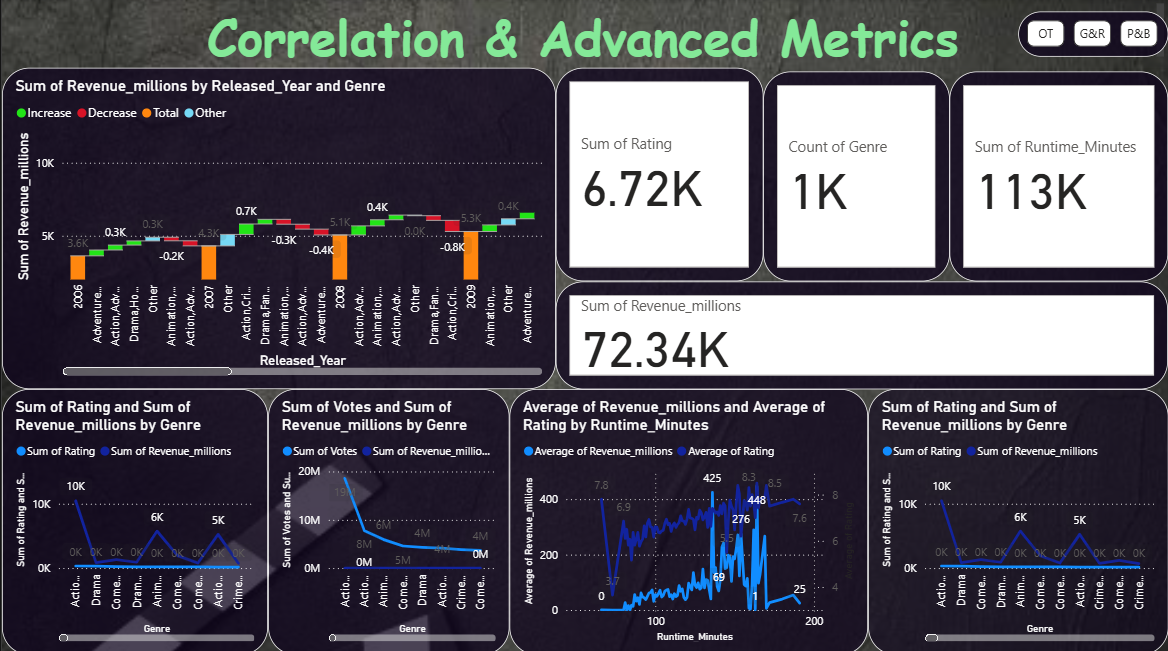

What the dashboard file says about the page in this screenshot:
{"tool":"powerbi","page":{"name":"C&M","canvas":[1280,720],"ordinal":3},"visuals":[{"type":"lineChart","fields":{"Y":["Sum(IMDB-Movie-Data.Rating)","Sum(IMDB-Movie-Data.Revenue_millions)"],"Category":["IMDB-Movie-Data.Genre"]},"box":[0,428.1,292.3,292.3],"z":0},{"type":"textbox","box":[2.7,0,1277.5,75.5],"z":1000},{"type":"lineChart","fields":{"Category":["IMDB-Movie-Data.Runtime_Minutes"],"Y":["Avg(IMDB-Movie-Data.Revenue_millions)"],"Y2":["Avg(IMDB-Movie-Data.Rating)"]},"box":[557.1,428.1,393.8,292.3],"z":2000},{"type":"lineChart","fields":{"Y":["Sum(IMDB-Movie-Data.Votes)","Sum(IMDB-Movie-Data.Revenue_millions)"],"Category":["IMDB-Movie-Data.Genre"]},"box":[292.3,428.1,264.8,292.3],"z":3000},{"type":"lineChart","fields":{"Category":["IMDB-Movie-Data.Genre"],"Y":["Sum(IMDB-Movie-Data.Rating)","Sum(IMDB-Movie-Data.Revenue_millions)"]},"box":[950.9,428.1,329.3,292.3],"z":4000},{"type":"waterfallChart","fields":{"Category":["IMDB-Movie-Data.Released_Year"],"Y":["Sum(IMDB-Movie-Data.Revenue_millions)"],"Breakdown":["IMDB-Movie-Data.Genre"]},"box":[0,75.5,607.9,352.7],"z":5000},{"type":"cardVisual","fields":{"Data":["Sum(IMDB-Movie-Data.Revenue_millions)"]},"box":[607.9,310.1,672.4,118],"z":6000},{"type":"cardVisual","fields":{"Data":["Sum(IMDB-Movie-Data.Rating)"]},"box":[607.9,75.5,227.8,234.6],"z":7000},{"type":"cardVisual","fields":{"Data":["CountNonNull(IMDB-Movie-Data.Genre)"]},"box":[835.7,79.6,204.5,230.5],"z":8000},{"type":"cardVisual","fields":{"Data":["Sum(IMDB-Movie-Data.Runtime_Minutes)"]},"box":[1040.1,79.6,240.1,230.5],"z":9000},{"type":"pageNavigator","box":[1115.6,13.7,164.7,49.4],"z":9001}]}

Visuals, with their boxes in screenshot pixels (x1, y1, x2, y2), scaled from the page's 1280x720 canvas onto the 1168x651 screenshot:
lineChart - Sum(IMDB-Movie-Data.Rating) x Sum(IMDB-Movie-Data.Revenue_millions): locate(0, 387, 267, 650)
textbox: locate(2, 0, 1167, 68)
lineChart - IMDB-Movie-Data.Runtime_Minutes x Avg(IMDB-Movie-Data.Revenue_millions): locate(508, 387, 868, 650)
lineChart - Sum(IMDB-Movie-Data.Votes) x Sum(IMDB-Movie-Data.Revenue_millions): locate(267, 387, 508, 650)
lineChart - IMDB-Movie-Data.Genre x Sum(IMDB-Movie-Data.Rating): locate(868, 387, 1167, 650)
waterfallChart - IMDB-Movie-Data.Released_Year x Sum(IMDB-Movie-Data.Revenue_millions): locate(0, 68, 555, 387)
cardVisual - Sum(IMDB-Movie-Data.Revenue_millions): locate(555, 280, 1167, 387)
cardVisual - Sum(IMDB-Movie-Data.Rating): locate(555, 68, 763, 280)
cardVisual - CountNonNull(IMDB-Movie-Data.Genre): locate(763, 72, 949, 280)
cardVisual - Sum(IMDB-Movie-Data.Runtime_Minutes): locate(949, 72, 1167, 280)
pageNavigator: locate(1018, 12, 1167, 57)
